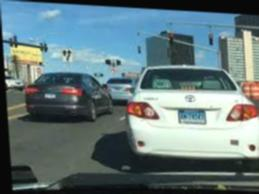License_Plate: (45, 93, 55, 98)
